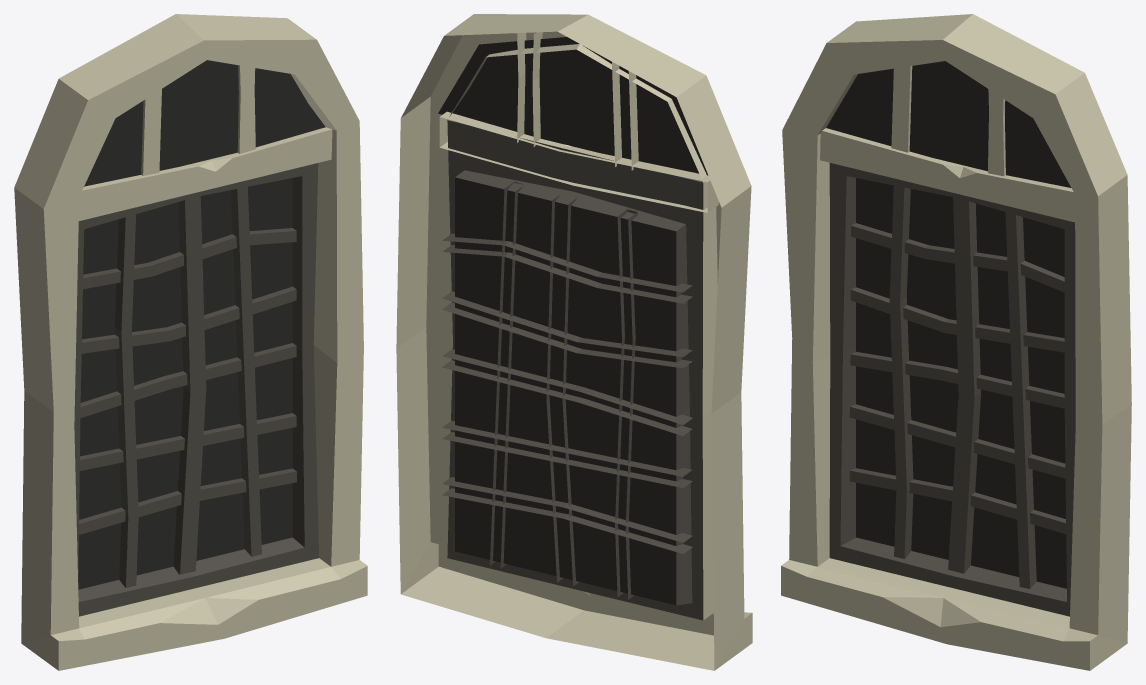
File: Window_2.fbx
The picture shows the model from 3 angles, left to right: view 1: azimuth 30°, elevation 25°; view 2: azimuth 150°, elevation 25°; view 3: azimuth 330°, elevation 25°; orthographic projection.
Parts seen in each view (by area): view 1: Window_2; view 2: Window_2; view 3: Window_2.
Part boxes in pixels (box(x1,y1,x2,y2)): Window_2: box(14, 14, 367, 670); Window_2: box(396, 14, 752, 670); Window_2: box(781, 14, 1131, 670).
Bounding box in the file's own units: 135 × 242 × 27.4.
